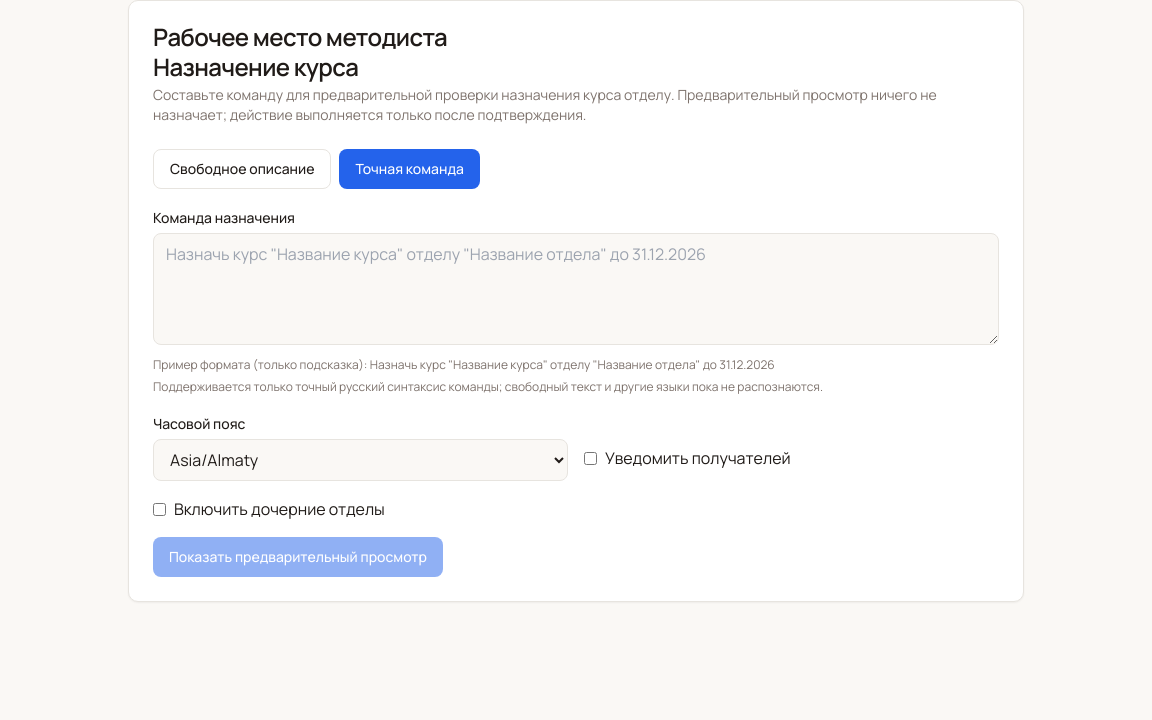
Test: assignment dialogue integration › maps a rejected preview safely and keeps the command for correction
Replace the text in the text box labelled "Команда назначения" with "Назначь курс \"Safety\" отделу \"Operations\" до 31.12.2030" at (576, 289), box x1=153 y1=233 x2=999 y2=345
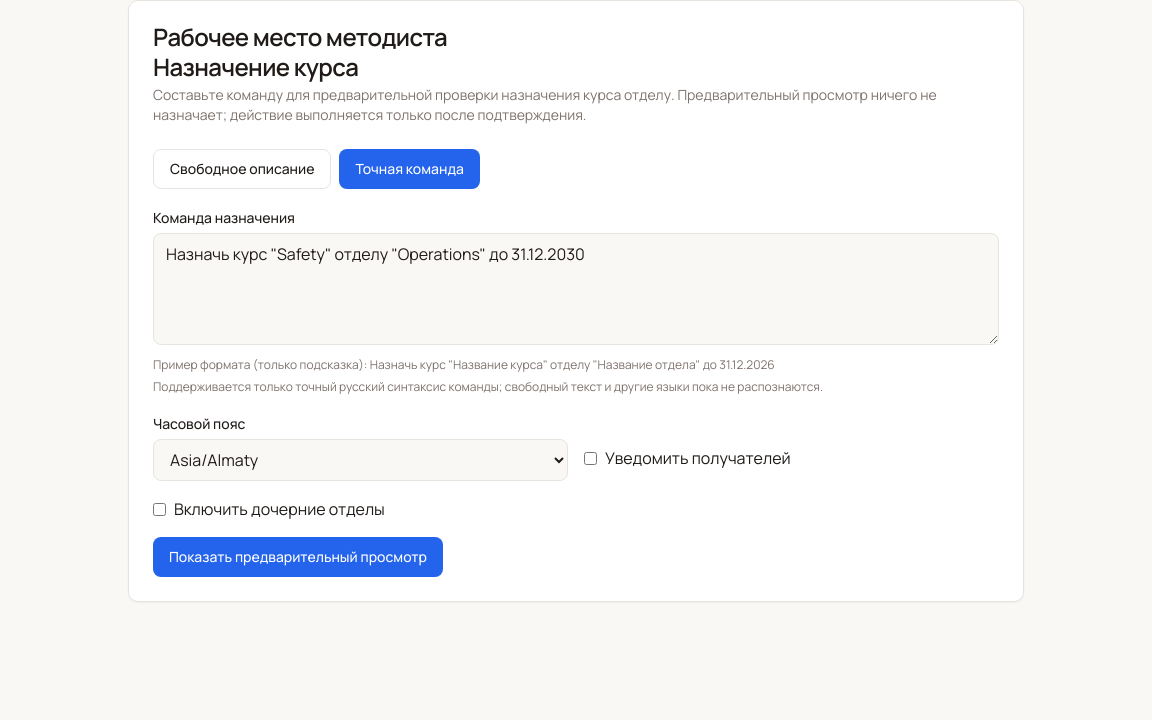
Click the button "Показать предварительный просмотр" at (298, 557), box x1=153 y1=537 x2=443 y2=577
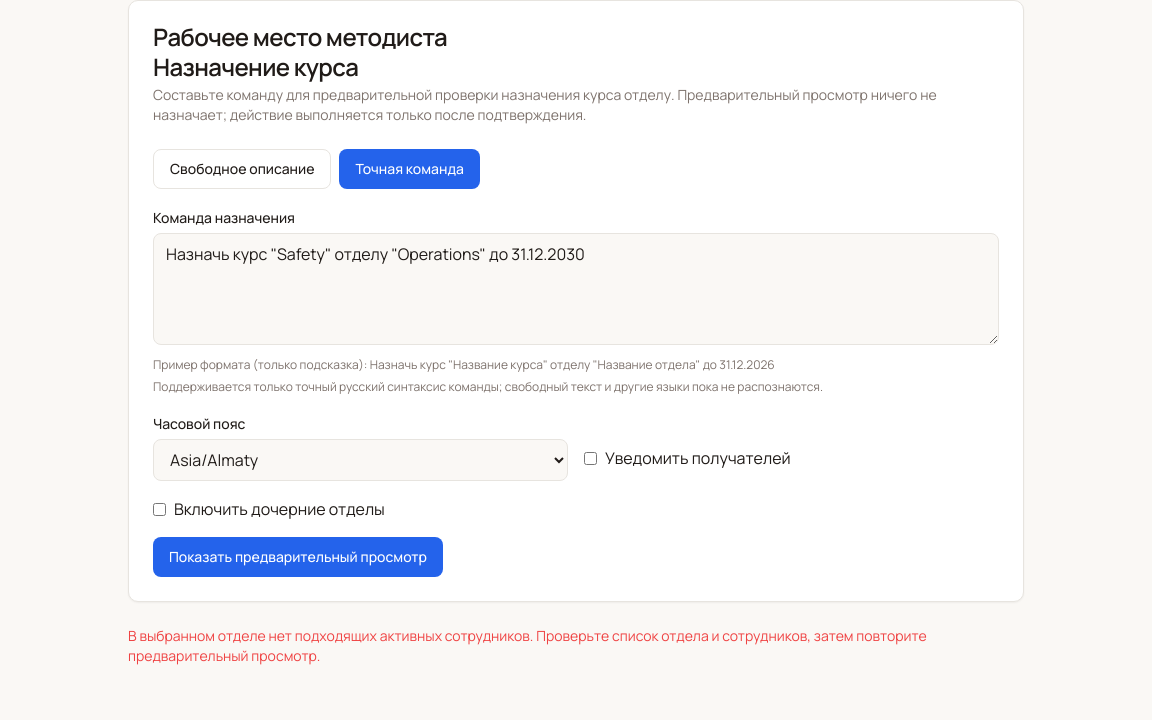
Result: the message shows "В выбранном отделе нет подходящих активных сотрудников" at x1=128 y1=626 x2=927 y2=665
